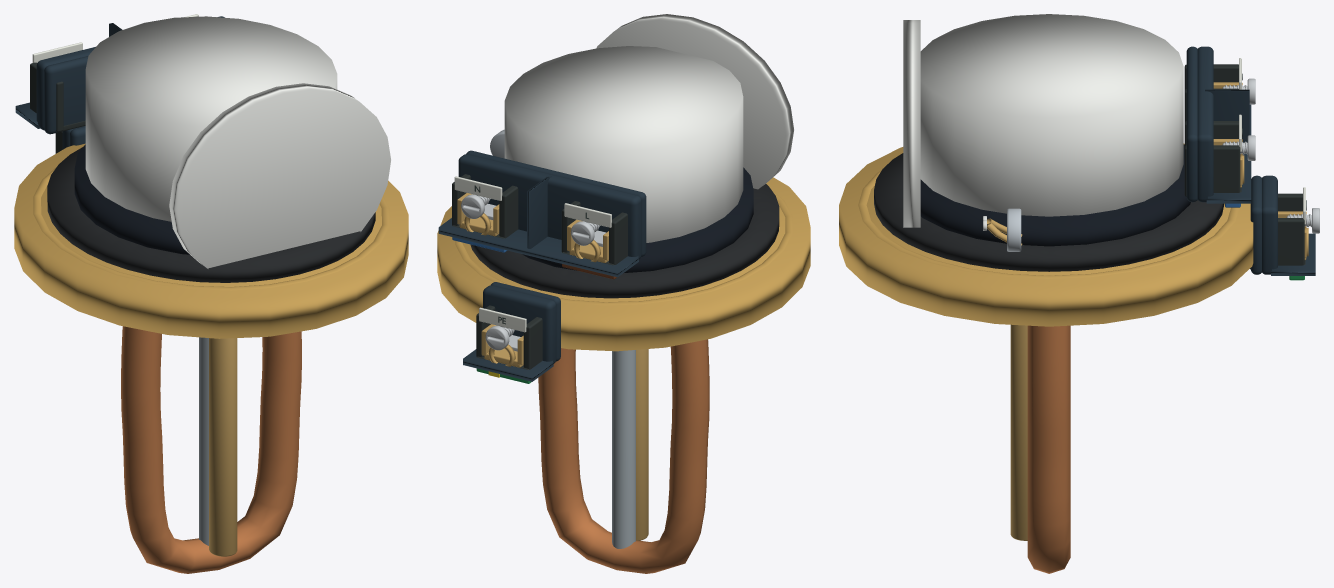
The model's file is heater_immersion.glb.
The picture shows the model from 3 angles, left to right: view 1: azimuth 30°, elevation 25°; view 2: azimuth 150°, elevation 25°; view 3: azimuth 270°, elevation 25°; orthographic projection. The views are drawn at different scales.
Parts seen in each view (by area): view 1: part:body, part:cover, part:element, Immersion flange gasket, detail:heat-transfer-construction · Detail machined brass, part:terminals · Original a463fd81, part:mounting · Original df732090, part:body.001, detail:terminal-clamp:L · Detail moulded engineering polymer; view 2: part:body, part:element, part:terminals · Original a463fd81, part:cover, Immersion flange gasket, part:body.001, detail:heat-transfer-construction · Detail machined brass, part:mounting · Original df732090, detail:terminal-clamp:PE · Detail moulded engineering polyme, detail:terminal-clamp:N · Detail moulded engineering polymer, detail:terminal-clamp:L · Detail moulded engineering polymer, detail:terminal-clamp:PE · Detail machined brass (+8 smaller); view 3: part:body, Immersion flange gasket, part:element, part:terminals · Original a463fd81, detail:heat-transfer-construction · Detail machined brass, part:cover, part:mounting · Original df732090, detail:terminal-clamp:N · Detail moulded engineering polymer, detail:terminal-clamp:PE · Detail moulded engineering polyme, detail:terminal-clamp:L · Detail moulded engineering polymer, Thermal cut-out disc.
Part boxes in pixels (left/top/right/bottom): part:body: left=14, top=16, right=408, bottom=338; part:cover: left=169, top=83, right=390, bottom=268; part:element: left=121, top=326, right=301, bottom=573; Immersion flange gasket: left=47, top=147, right=375, bottom=282; detail:heat-transfer-construction · Detail machined brass: left=209, top=338, right=237, bottom=556; part:terminals · Original a463fd81: left=15, top=16, right=224, bottom=149; part:mounting · Original df732090: left=33, top=167, right=389, bottom=290; part:body.001: left=199, top=337, right=208, bottom=545; detail:terminal-clamp:L · Detail moulded engineering polymer: left=30, top=62, right=85, bottom=132; part:body: left=437, top=46, right=810, bottom=351; part:element: left=538, top=339, right=709, bottom=573; part:terminals · Original a463fd81: left=438, top=150, right=646, bottom=381; part:cover: left=596, top=14, right=793, bottom=189; Immersion flange gasket: left=470, top=184, right=779, bottom=298; part:body.001: left=612, top=350, right=635, bottom=548; detail:heat-transfer-construction · Detail machined brass: left=636, top=349, right=648, bottom=540; part:mounting · Original df732090: left=455, top=188, right=792, bottom=305; detail:terminal-clamp:PE · Detail moulded engineering polyme: left=476, top=305, right=542, bottom=369; detail:terminal-clamp:N · Detail moulded engineering polymer: left=452, top=174, right=518, bottom=238; detail:terminal-clamp:L · Detail moulded engineering polymer: left=561, top=201, right=627, bottom=265; detail:terminal-clamp:PE · Detail machined brass: left=481, top=324, right=523, bottom=367; part:body: left=839, top=14, right=1253, bottom=326; Immersion flange gasket: left=874, top=153, right=1224, bottom=271; part:element: left=1027, top=325, right=1070, bottom=573; part:terminals · Original a463fd81: left=1186, top=46, right=1315, bottom=275; detail:heat-transfer-construction · Detail machined brass: left=1010, top=324, right=1027, bottom=540; part:cover: left=903, top=20, right=920, bottom=227; part:mounting · Original df732090: left=858, top=170, right=1239, bottom=278; detail:terminal-clamp:N · Detail moulded engineering polymer: left=1184, top=121, right=1241, bottom=196; detail:terminal-clamp:PE · Detail moulded engineering polyme: left=1250, top=193, right=1305, bottom=269; detail:terminal-clamp:L · Detail moulded engineering polymer: left=1184, top=64, right=1238, bottom=122; Thermal cut-out disc: left=1007, top=208, right=1021, bottom=251.
Size of the model in its own units: 0.7754 by 1.17 by 0.9691.
